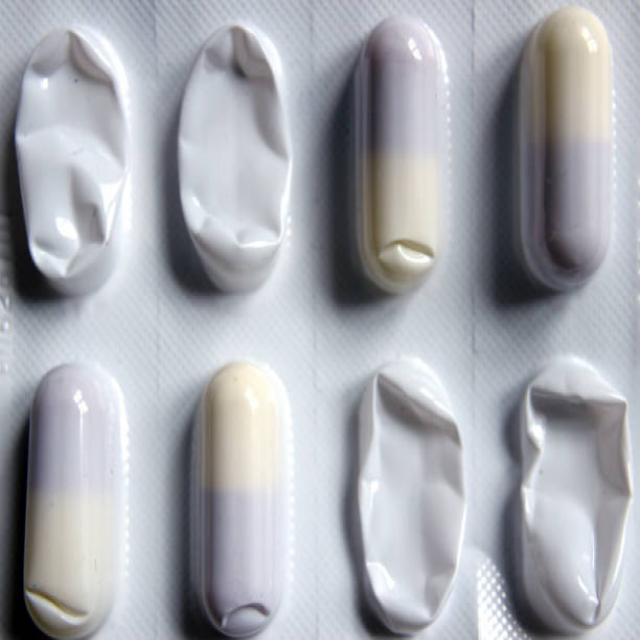Empty: (495, 338, 632, 640), (330, 345, 469, 640), (159, 15, 291, 312), (5, 9, 133, 302)
Pill: (500, 6, 623, 297), (15, 344, 135, 640), (180, 346, 294, 640), (335, 5, 446, 301)
